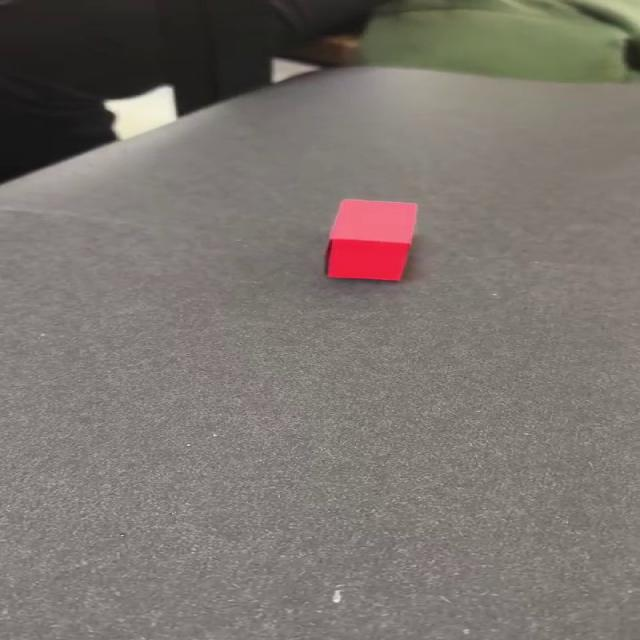red block: (323, 198, 417, 281)
